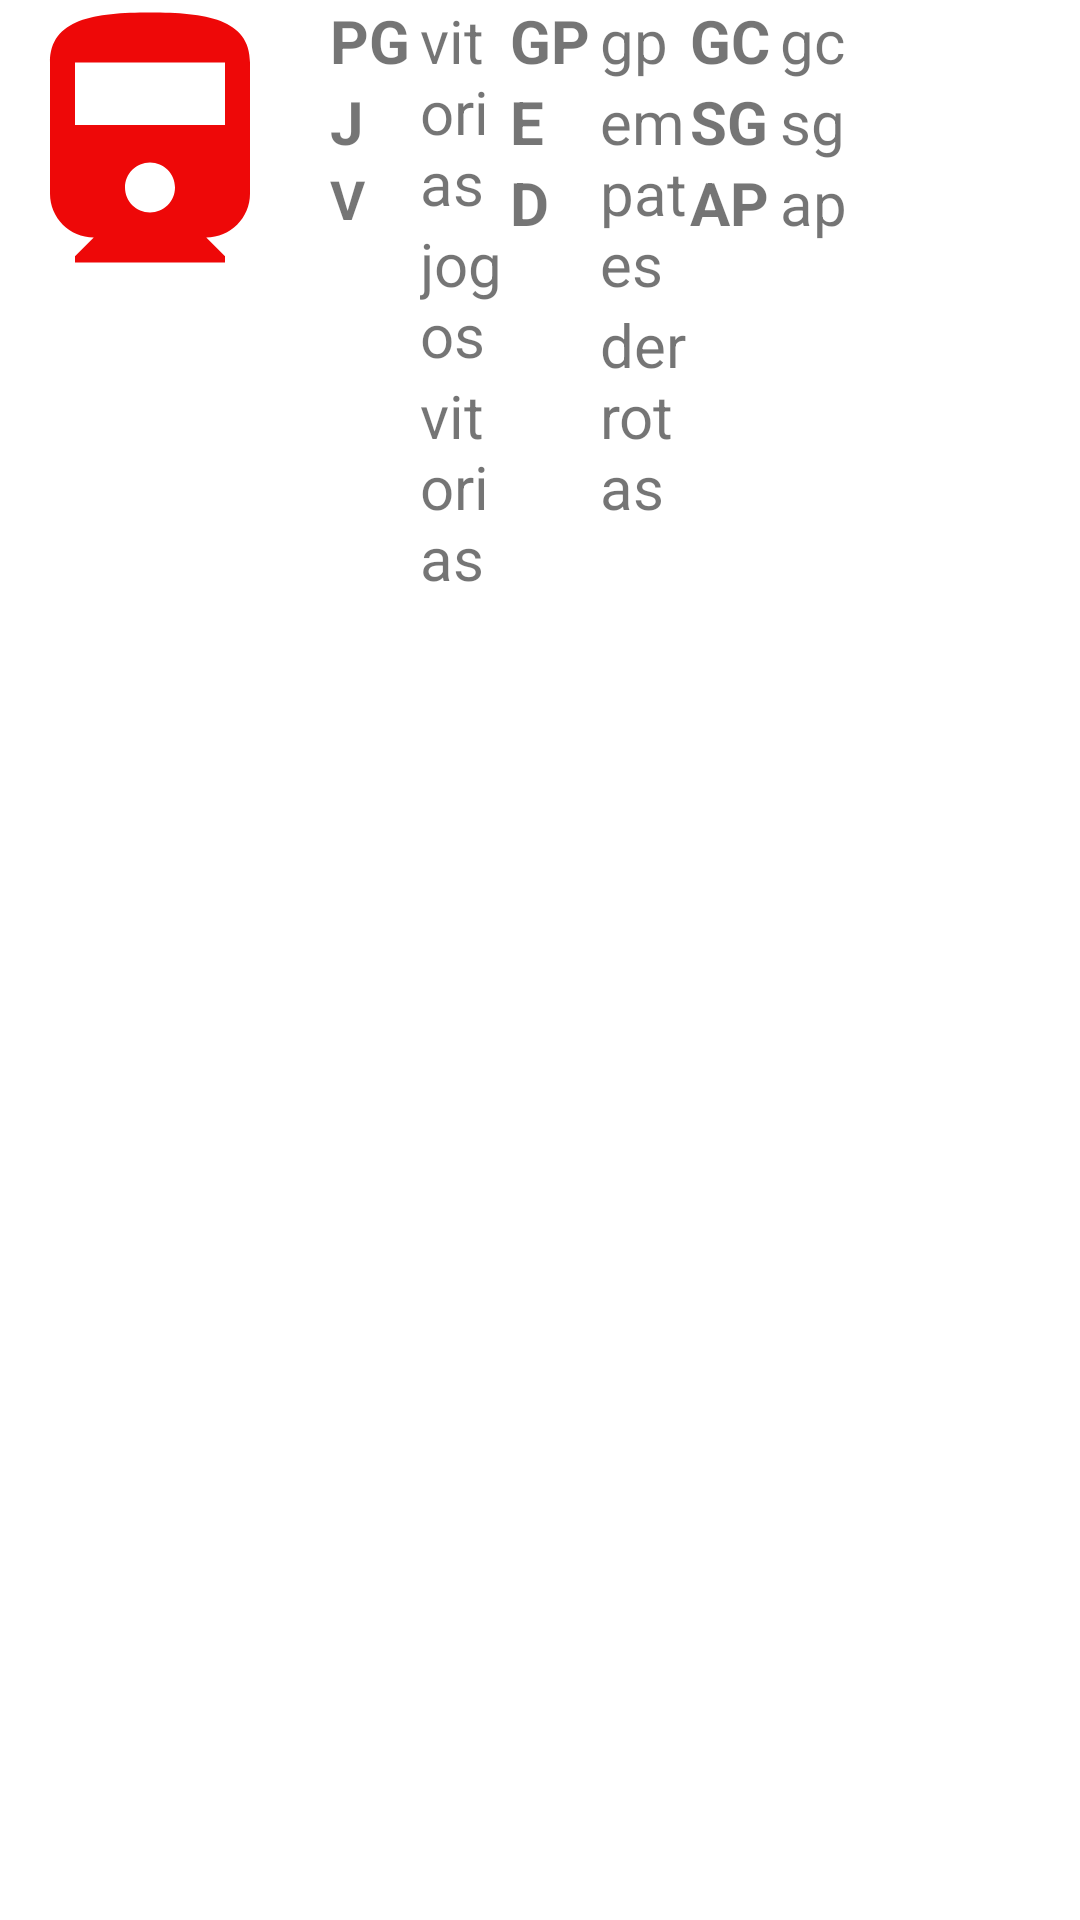

Icons on this 1080x1920 Android screen, each with its box as (x1, y1, x2, y2):
trem: (50, 12, 250, 263)
